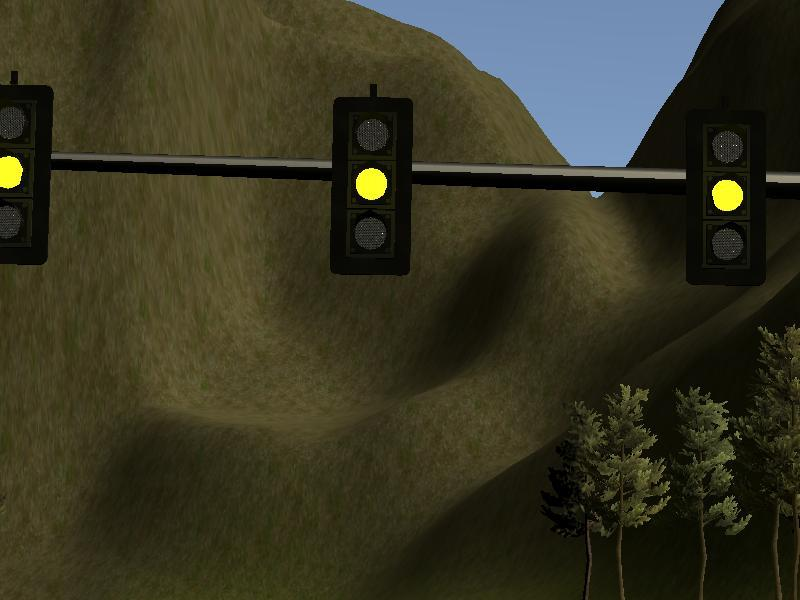Yellow: (333, 96, 409, 274), (689, 104, 764, 283), (1, 86, 51, 261)
